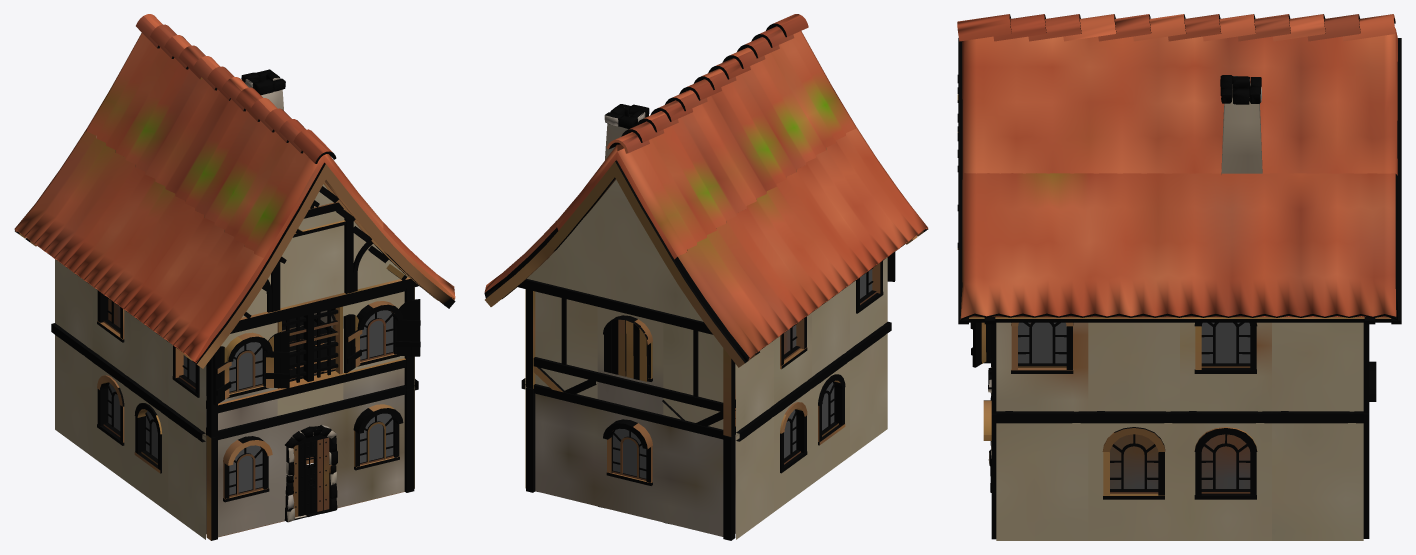
The model's file is VillageStatic_House_A_mobile.glb.
3 views of the same model, side by side, from view 1: azimuth 30°, elevation 25°; view 2: azimuth 150°, elevation 25°; view 3: azimuth 270°, elevation 25° (orthographic). The views are drawn at different scales.
Parts seen in each view (by area): view 1: StaticHouseMobile_A; view 2: StaticHouseMobile_A; view 3: StaticHouseMobile_A.
Boxes of the visible parts, x1,y1,x2,y2 form: StaticHouseMobile_A: (14,14,455,540); StaticHouseMobile_A: (484,14,928,540); StaticHouseMobile_A: (957,14,1401,540).
Bounding box in the file's own units: 8.25 × 11.15 × 9.68.
Materials: 1 (1 with a texture image).
